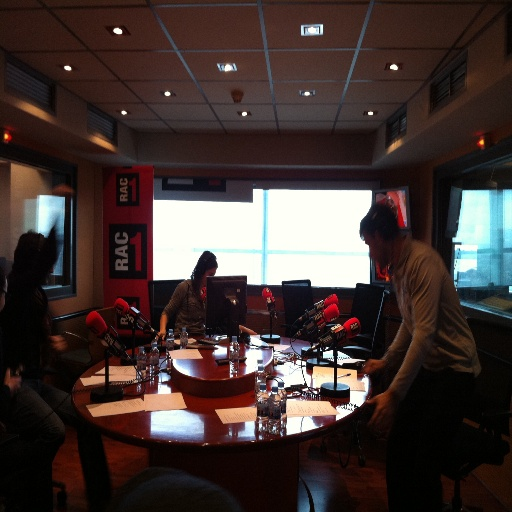hand: (364, 393, 399, 439), (3, 369, 23, 394), (359, 357, 385, 376), (52, 335, 68, 351), (154, 328, 166, 341)
